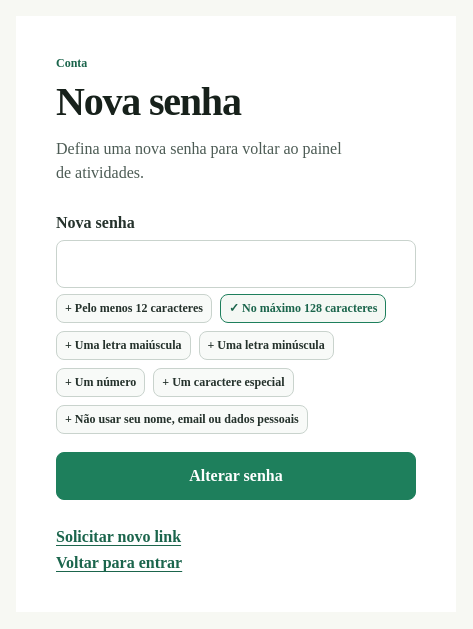
Scenario: PasswordRecoveryCompleteComponent › should_show_invalid_link_next_action_after_invalid_expired_or_used_token
In the password field named "newPassword": (236, 264) [56, 240, 416, 288], type "Valid!Password1"
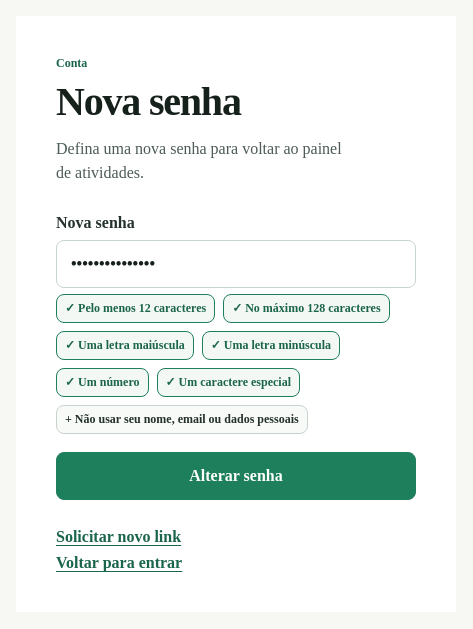
Submit the form, box [56, 214, 416, 500]
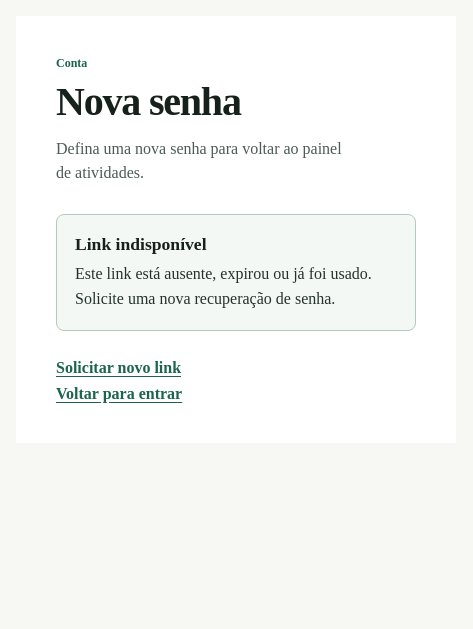
Now the text "Link indisponível" is shown, box [75, 234, 206, 254]
Now the text "expirou ou já foi usado" is shown, box [75, 265, 372, 307]
Now the form is gone
